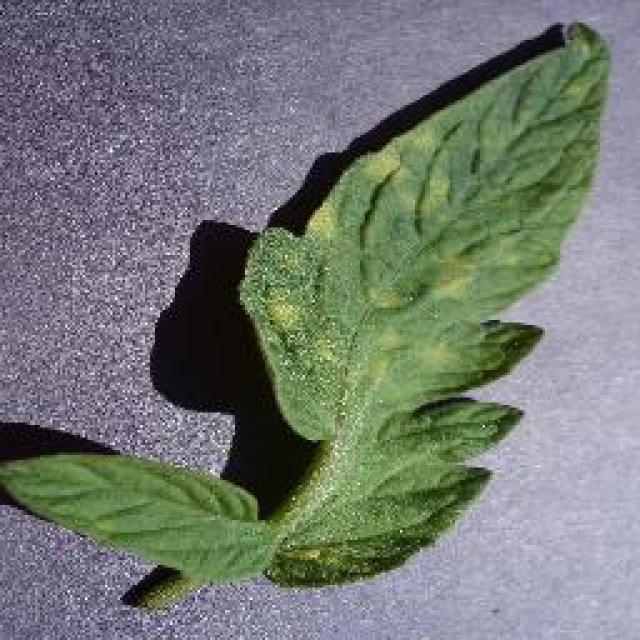Tomato___Leaf_Mold: (0, 22, 608, 610)
